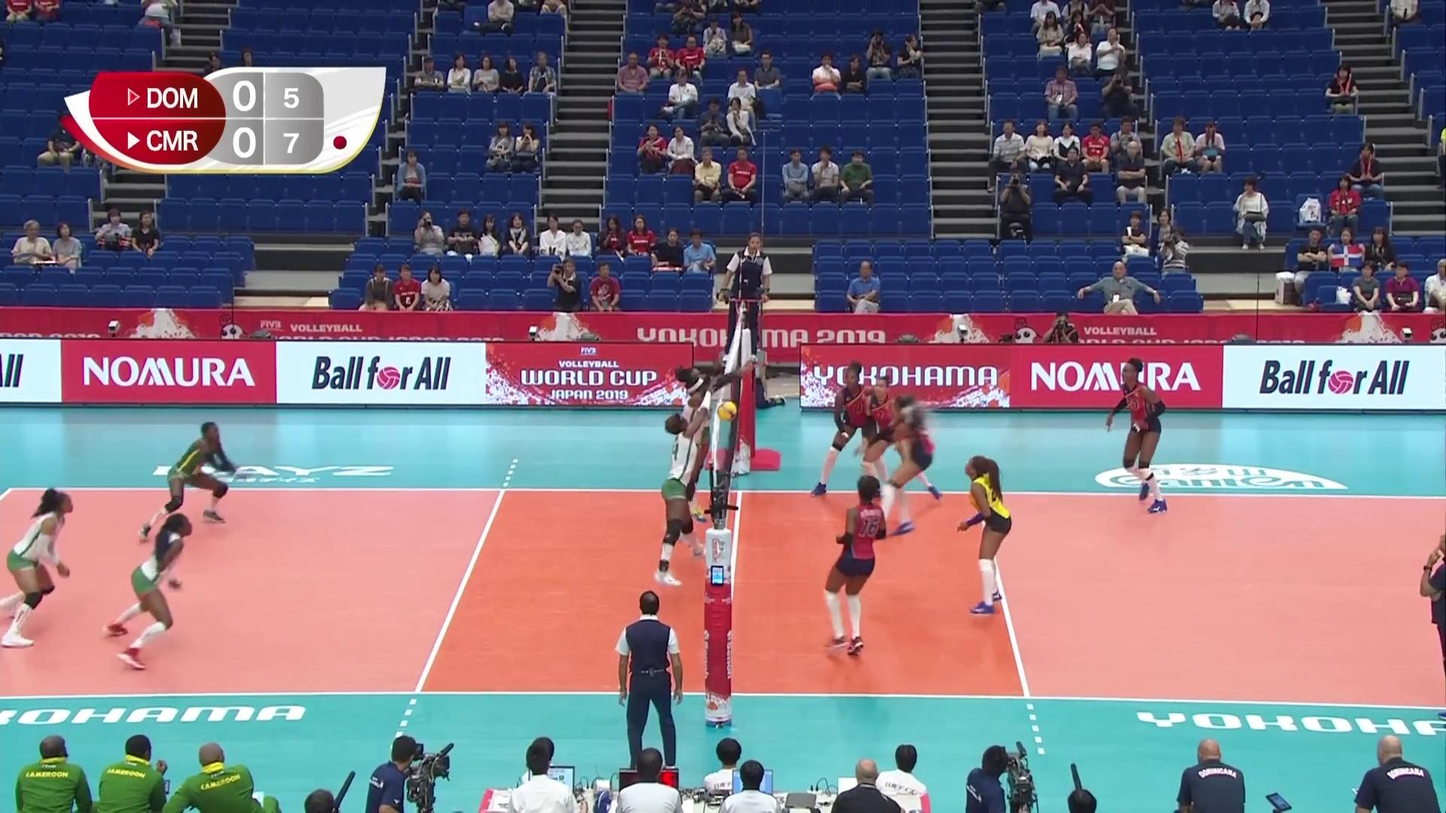player: (104, 514, 191, 671), (819, 477, 890, 661), (0, 488, 78, 650), (140, 421, 242, 539), (653, 403, 713, 586), (810, 363, 890, 498), (860, 376, 940, 505), (1104, 357, 1167, 513), (952, 456, 1013, 615), (874, 394, 936, 539), (676, 374, 722, 561), (673, 358, 724, 521)
refree: (612, 591, 686, 777), (724, 232, 770, 365)
